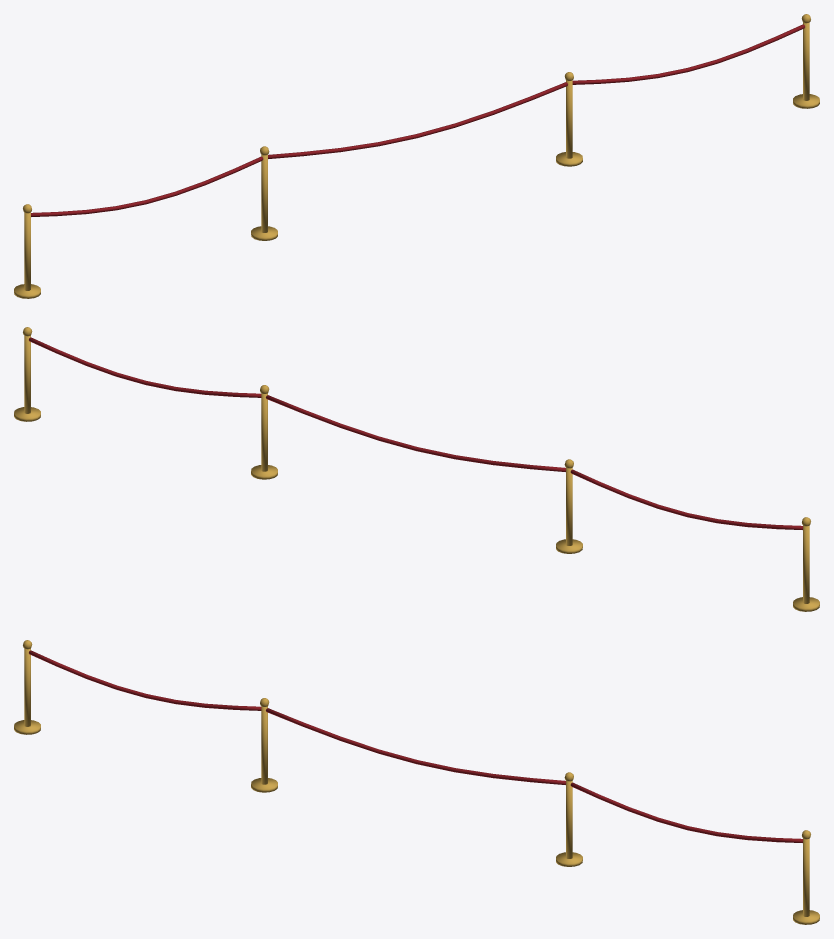
File: rope_line.gltf
3 views of the same model, one above another, from view 1: azimuth 30°, elevation 25°; view 2: azimuth 150°, elevation 25°; view 3: azimuth 330°, elevation 25° (orthographic).
Parts seen in each view (by area): view 1: rope_line_mesh; view 2: rope_line_mesh; view 3: rope_line_mesh.
Boxes of the visible parts, bbox=[...] form: rope_line_mesh: bbox=[14, 14, 819, 298]; rope_line_mesh: bbox=[14, 327, 819, 611]; rope_line_mesh: bbox=[14, 640, 819, 924].
Size of the model in its own units: 9.47 by 1 by 0.28.
